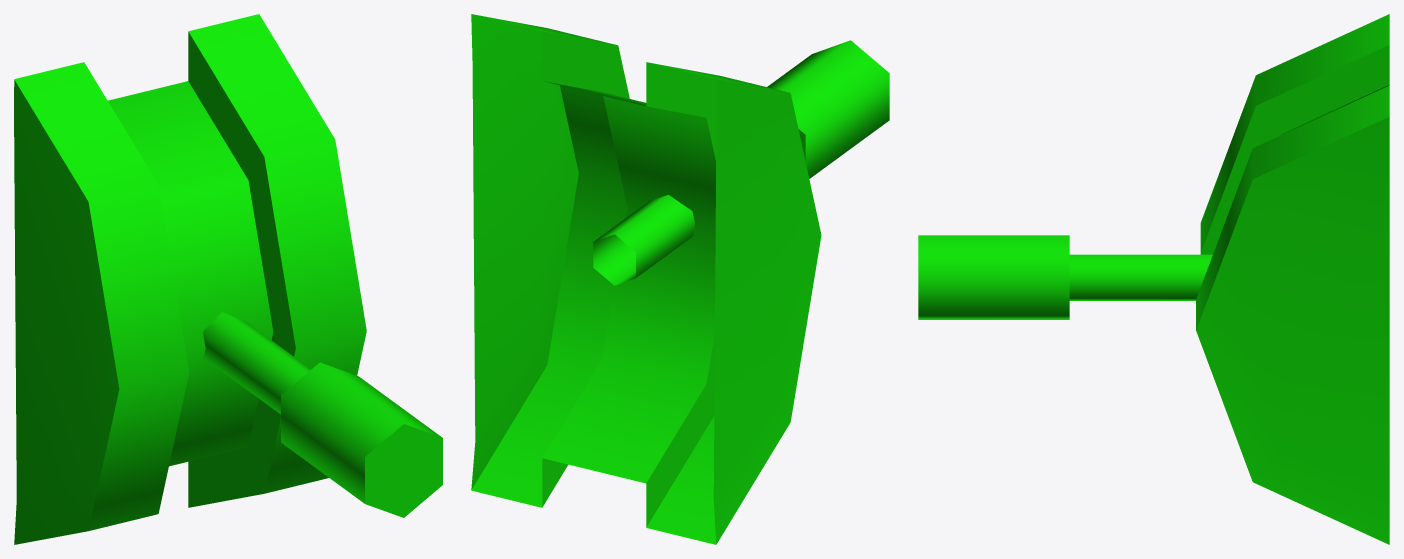
The model's file is AlavancaPequenaVagaoFinal.fbx.
The picture shows the model from 3 angles, left to right: view 1: azimuth 30°, elevation 25°; view 2: azimuth 150°, elevation 25°; view 3: azimuth 270°, elevation 25°; orthographic projection. The views are drawn at different scales.
Parts seen in each view (by area): view 1: Circle.010, Circle.011; view 2: Circle.010, Circle.011; view 3: Circle.010, Circle.011.
Part boxes in pixels (x1,y1,x2,y2): Circle.010: (14,14,366,544); Circle.011: (203,312,442,517); Circle.010: (471,14,821,544); Circle.011: (593,40,889,285); Circle.010: (1196,14,1389,544); Circle.011: (918,235,1212,319).
Size of the model in its own units: 472 by 877 by 875.
